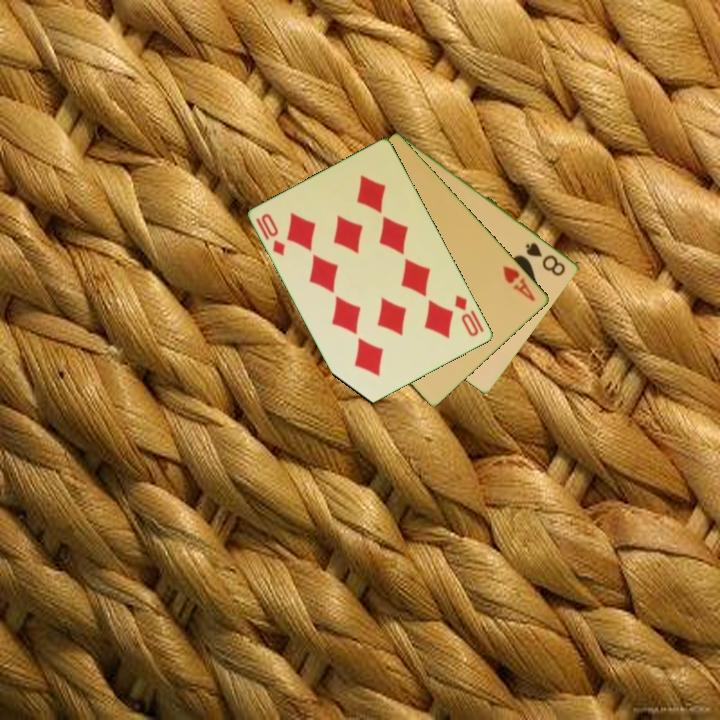10d: (253, 210, 289, 259), (451, 291, 482, 340)
8s: (522, 239, 569, 279)
Ah: (499, 262, 538, 304)
